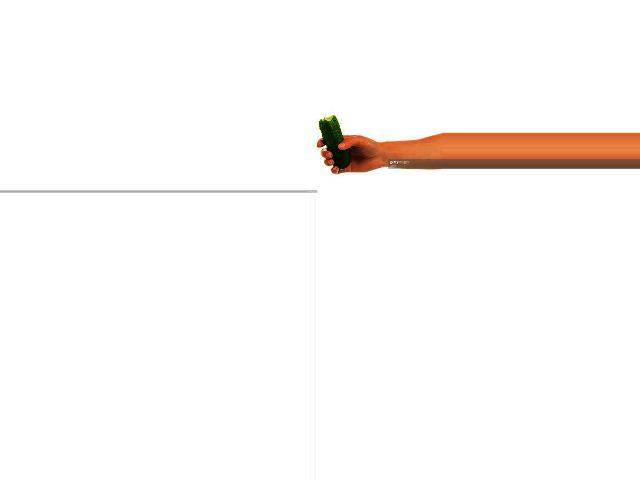cucumber: (319, 115, 351, 169)
